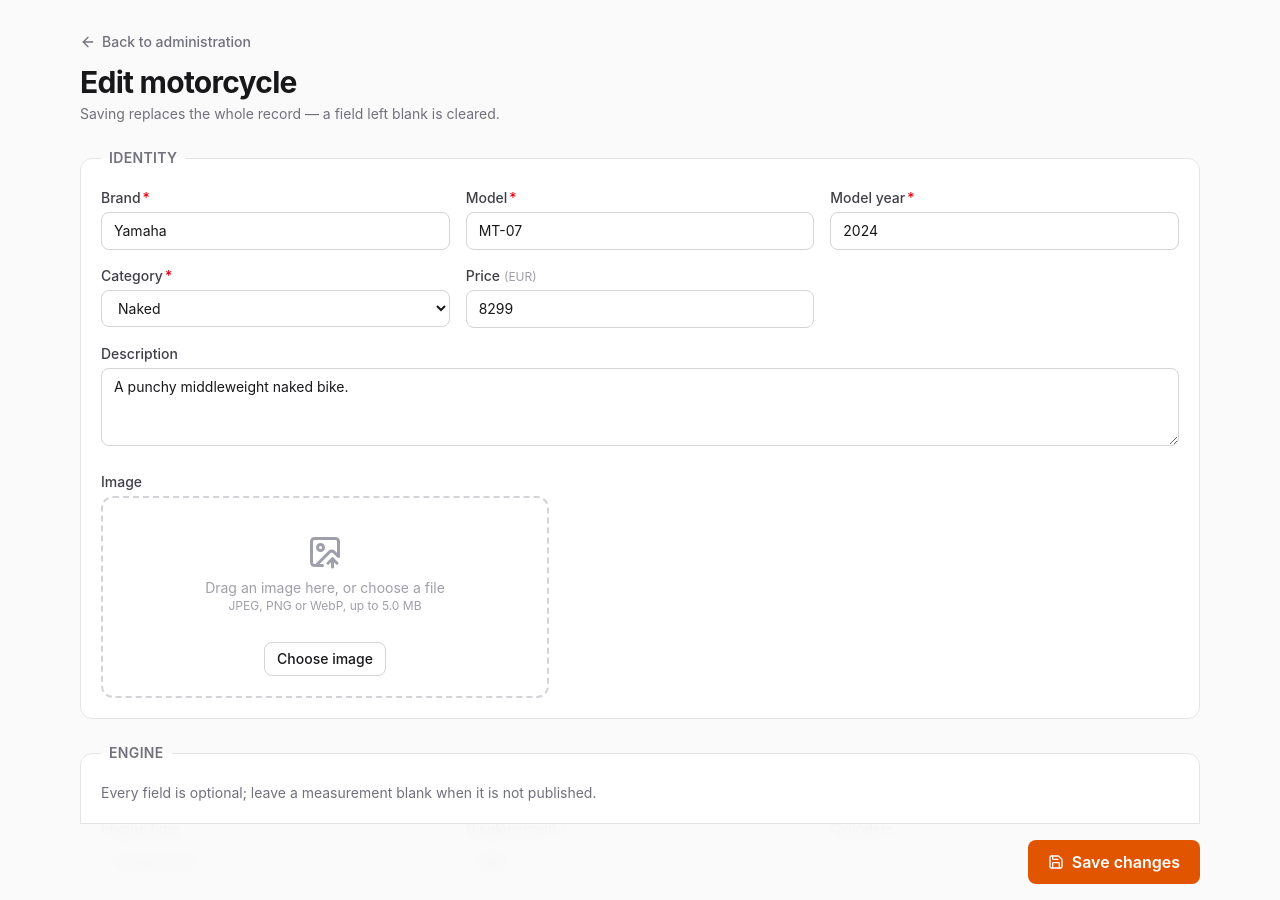
Test: AdminMotorcycleFormPage edit › keeps the admin on the form when the save is rejected
Expected: the heading "Edit motorcycle" is shown, x1=80 y1=64 x2=297 y2=100
Click the button "Save changes".
click(1114, 862)  # box x1=1028 y1=840 x2=1200 y2=884
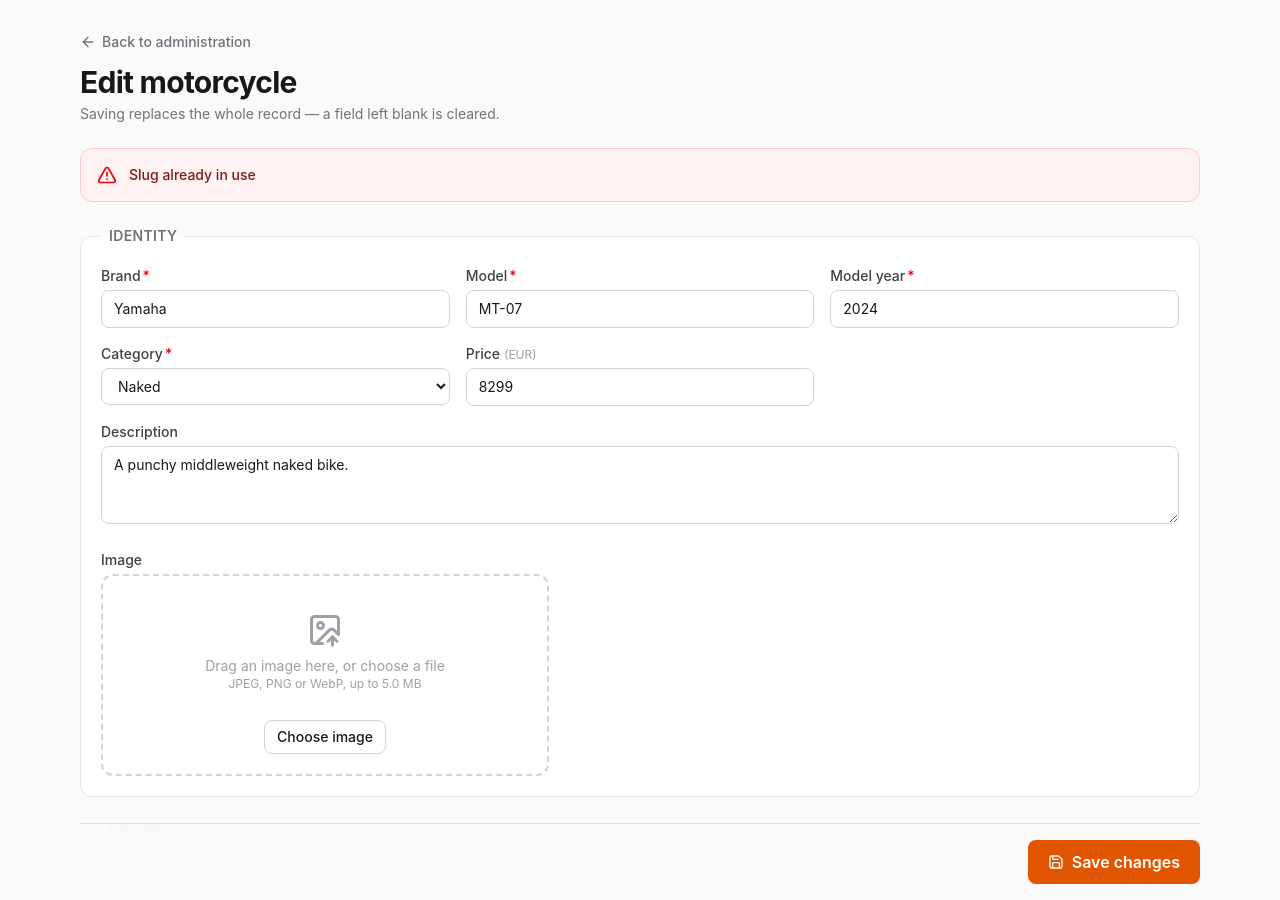
Expected: the message reads "Slug already in use", x1=129 y1=166 x2=256 y2=183
